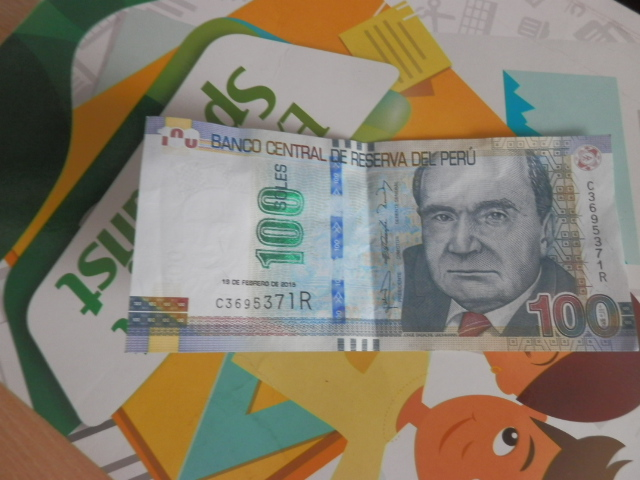B100: (121, 112, 638, 357)
